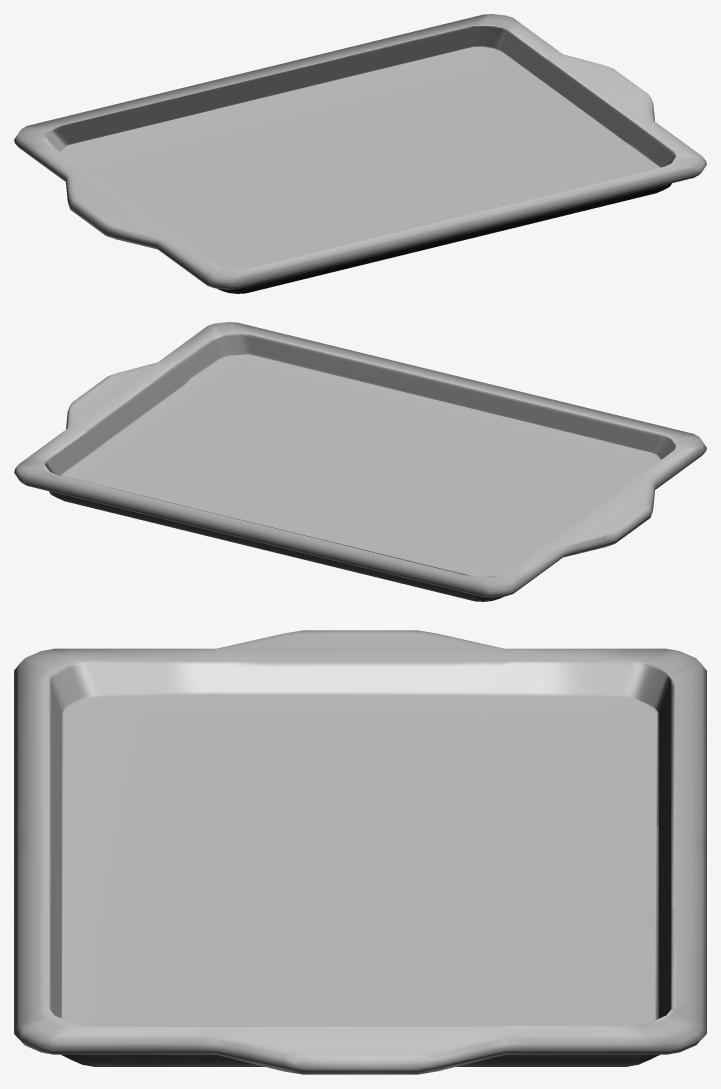
Rendered from Tray_01.fbx.
The picture shows the model from 3 angles, top to bottom: view 1: azimuth 30°, elevation 25°; view 2: azimuth 150°, elevation 25°; view 3: azimuth 270°, elevation 25°; orthographic projection. The views are drawn at different scales.
Parts seen in each view (by area): view 1: Tray_01; view 2: Tray_01; view 3: Tray_01.
Boxes of the visible parts, x1,y1,x2,y2 form: Tray_01: (14, 14, 706, 293); Tray_01: (14, 322, 706, 601); Tray_01: (14, 630, 706, 1074).
Size of the model in its own units: 156 by 8.12 by 106.
